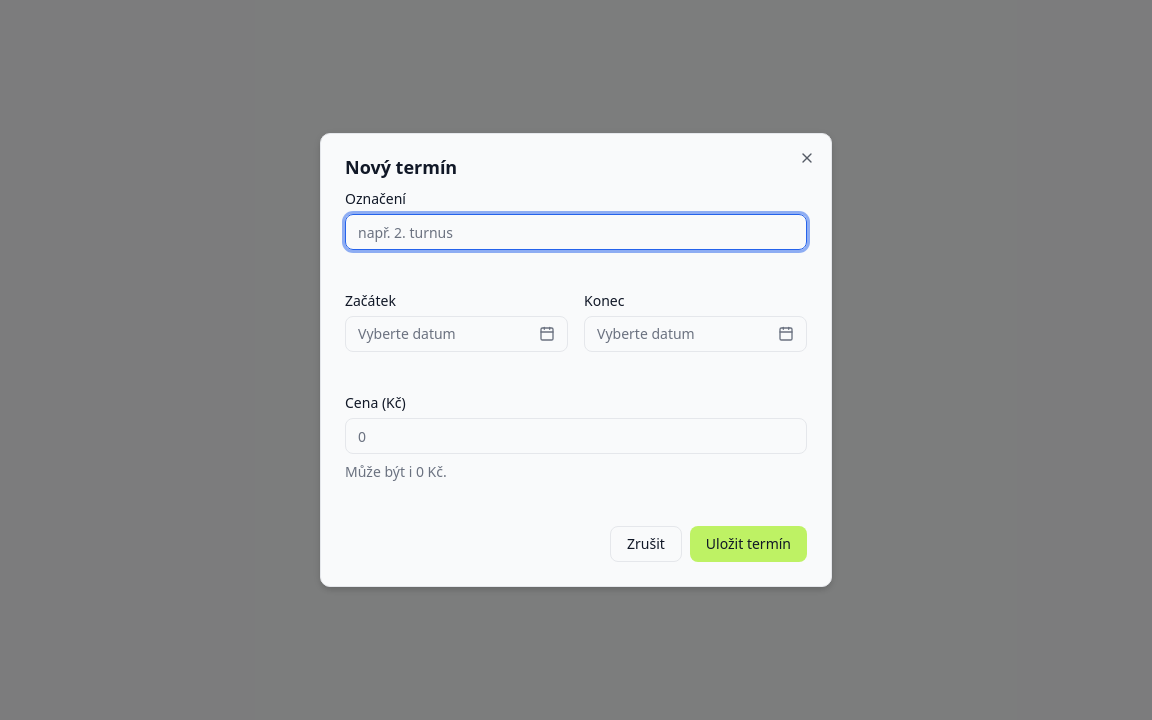
TermForm › requires a label, both dates and a price
This screenshot has width=1152, height=720.
Click the button "Uložit termín".
click(748, 544)  # box x1=690 y1=526 x2=807 y2=562
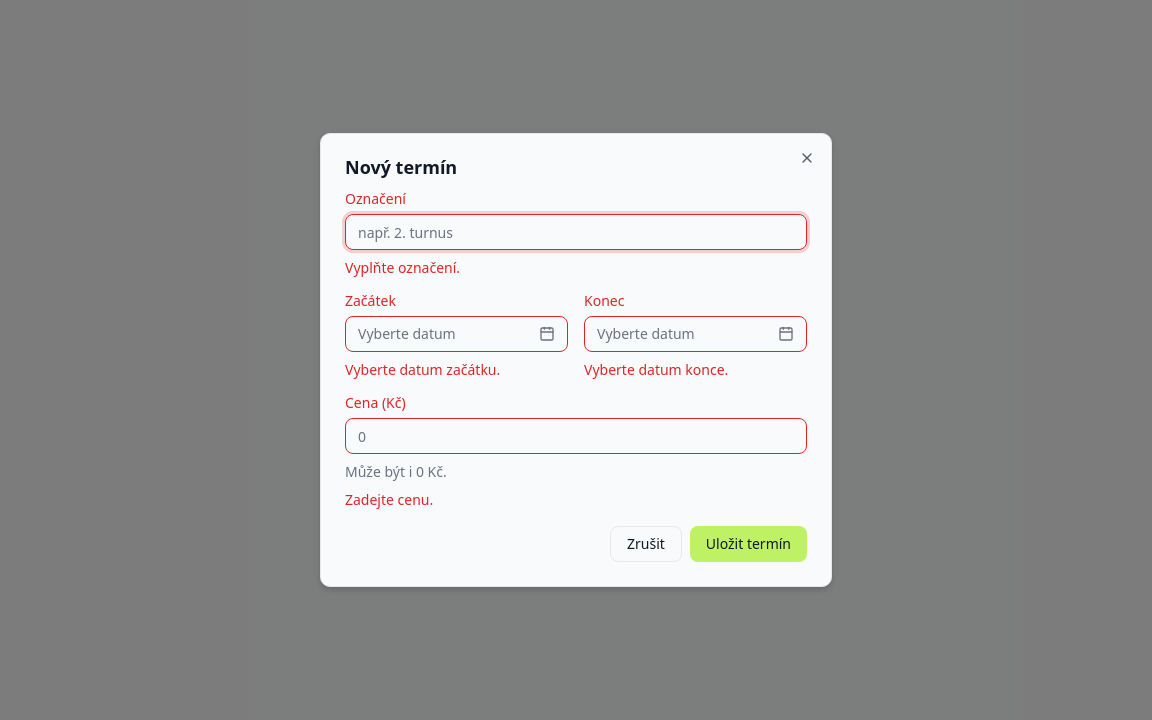
Expected: the text "Vyplňte označení." is shown, x1=345 y1=258 x2=460 y2=277
Expected: the text "Vyberte datum začátku." is shown, x1=345 y1=360 x2=500 y2=379
Expected: the text "Vyberte datum konce." is shown, x1=584 y1=360 x2=728 y2=379
